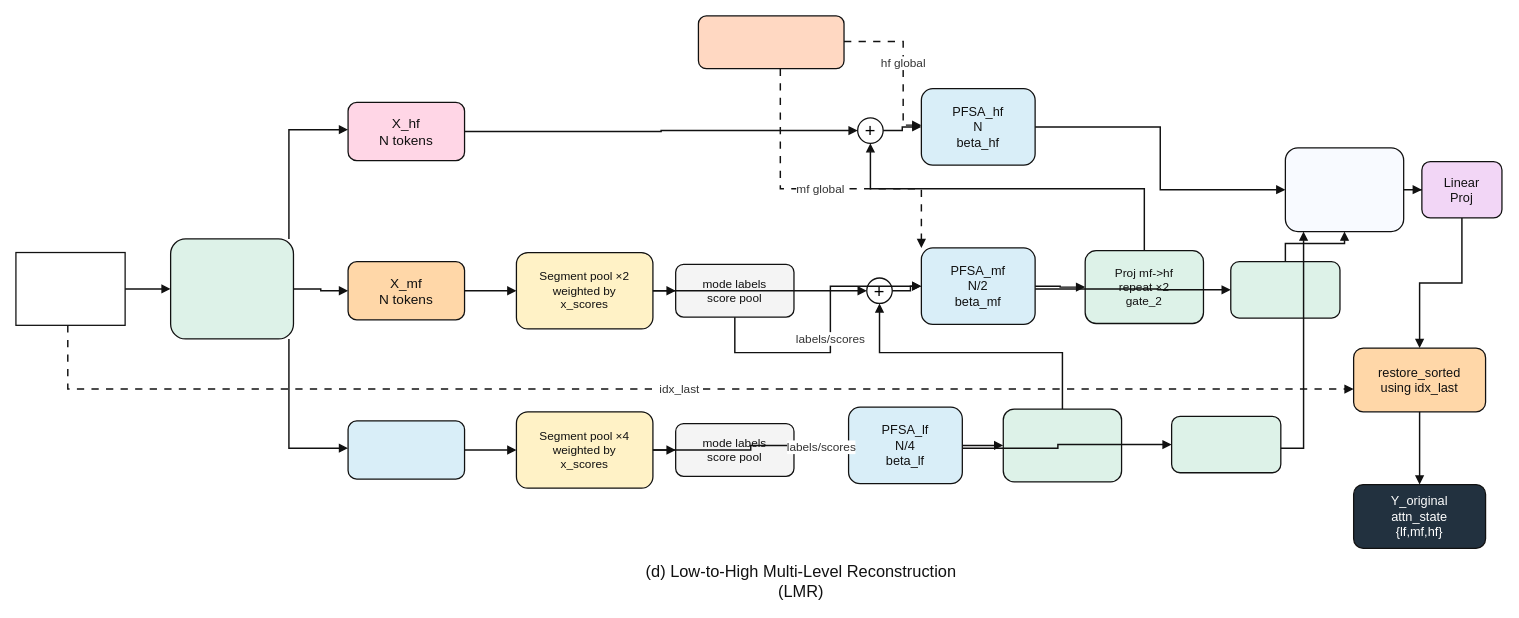
The diagram is 1519 pixels wide and 618 high, and some of its shapes have lost their labels. The shapes that lost their labels are listed below. From the top down, each one's centre as x and y in pixels, then its label:
the point at 770,42: Global branch P -> k_g,v_g
the point at 1344,189: Concat Y_hf,Y_mf,Y_lf
the point at 70,288: X_sorted labels scores idx_last
the point at 232,288: Channel / head split [hf,mf,lf] [2,1,1]
the point at 1285,289: repeat ×2 to N
the point at 406,449: X_lf N tokens
the point at 1062,445: Proj lf->mf repeat ×2 gate_1
the point at 1226,444: repeat ×4 to N
